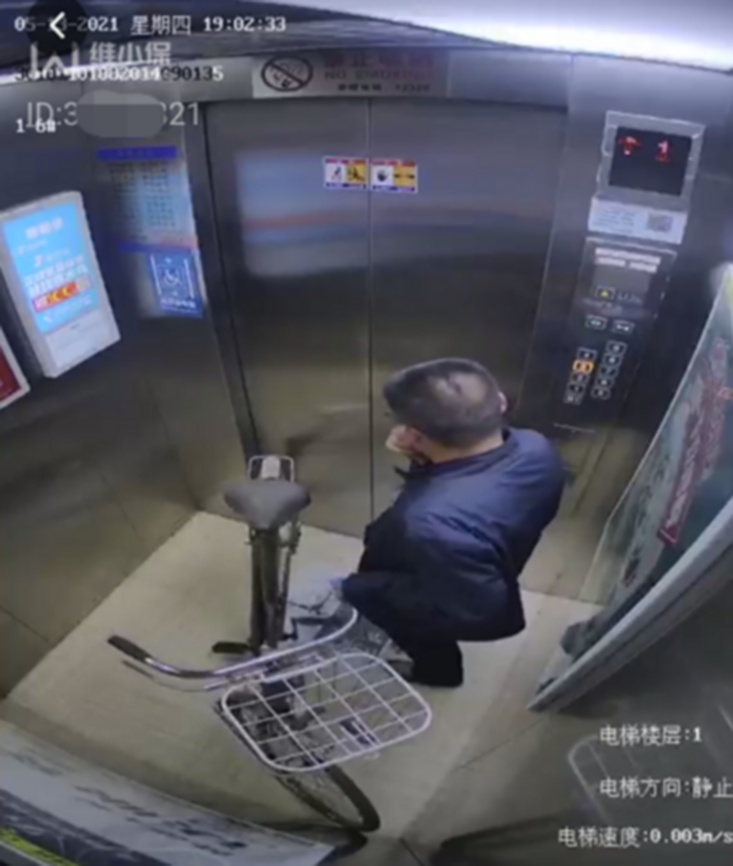person: (355, 358, 547, 694)
